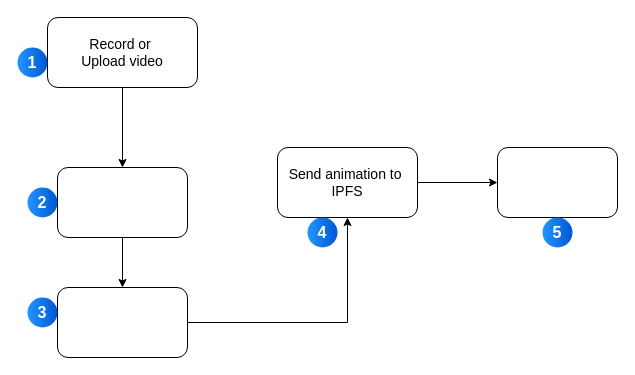
This 635x375 diagram has some shape labels left out. Each missing label, with the box of its shape:
Detect face landmarks: (56, 166, 188, 238)
Mint NFT: (496, 146, 618, 218)
Use landmarks to move 2D or 3D character: (56, 286, 188, 358)
